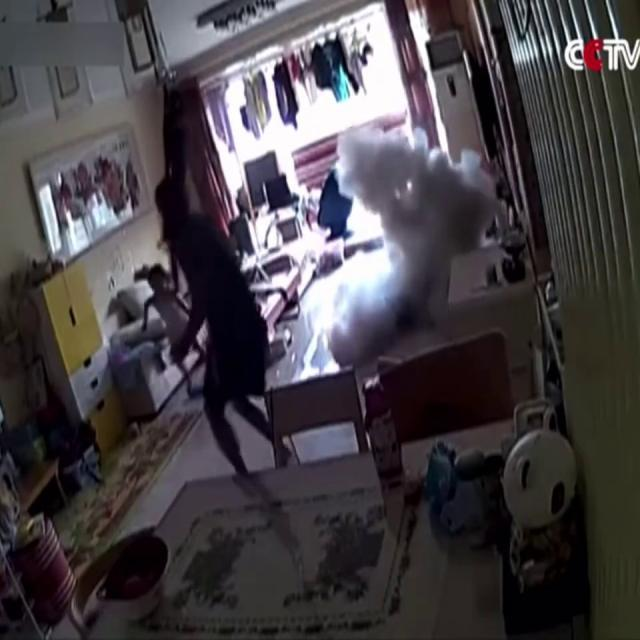Smoke: (301, 108, 497, 374)
